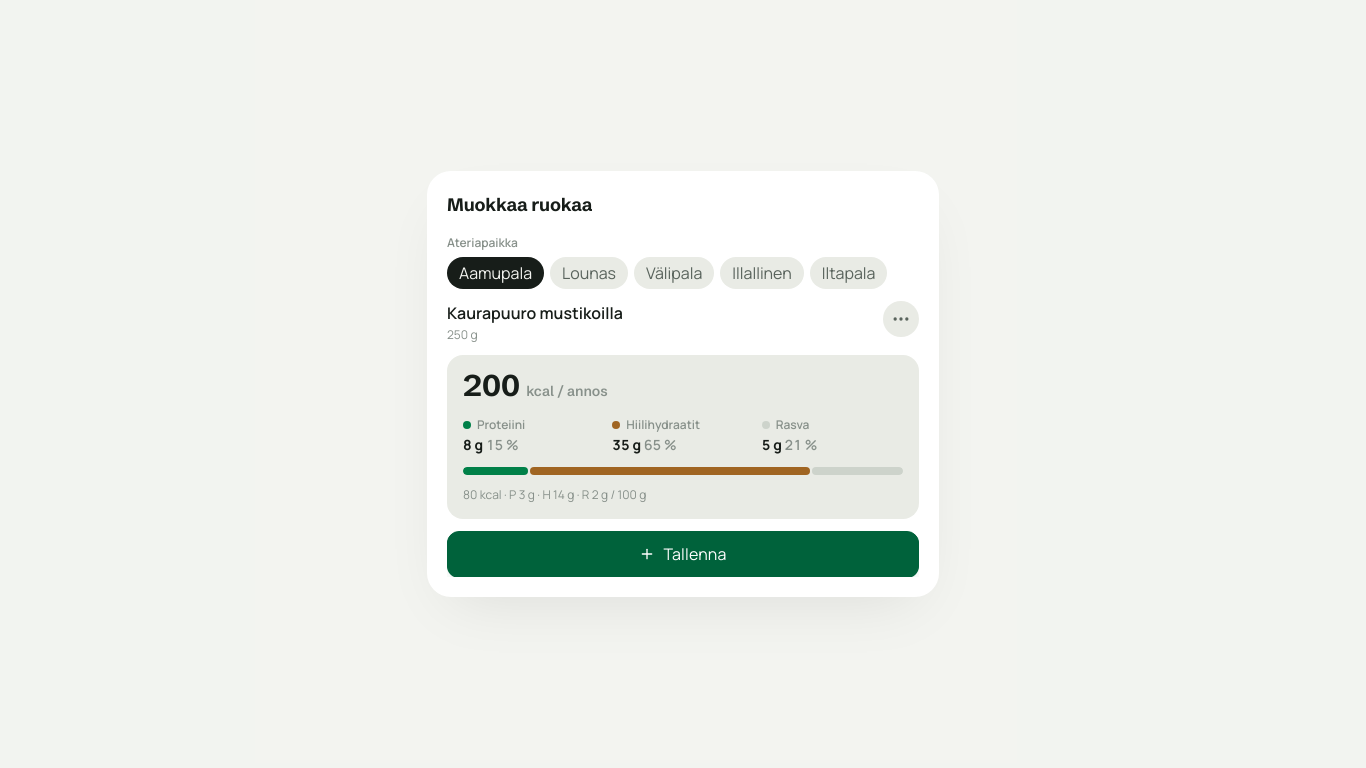
Scenario: FoodEntryEditSheet › käsin muokkaus avautuu valikosta
This screenshot has width=1366, height=768.
Click the button named "Avaa muokkausvalinnat": (901, 319) [883,301,919,337]
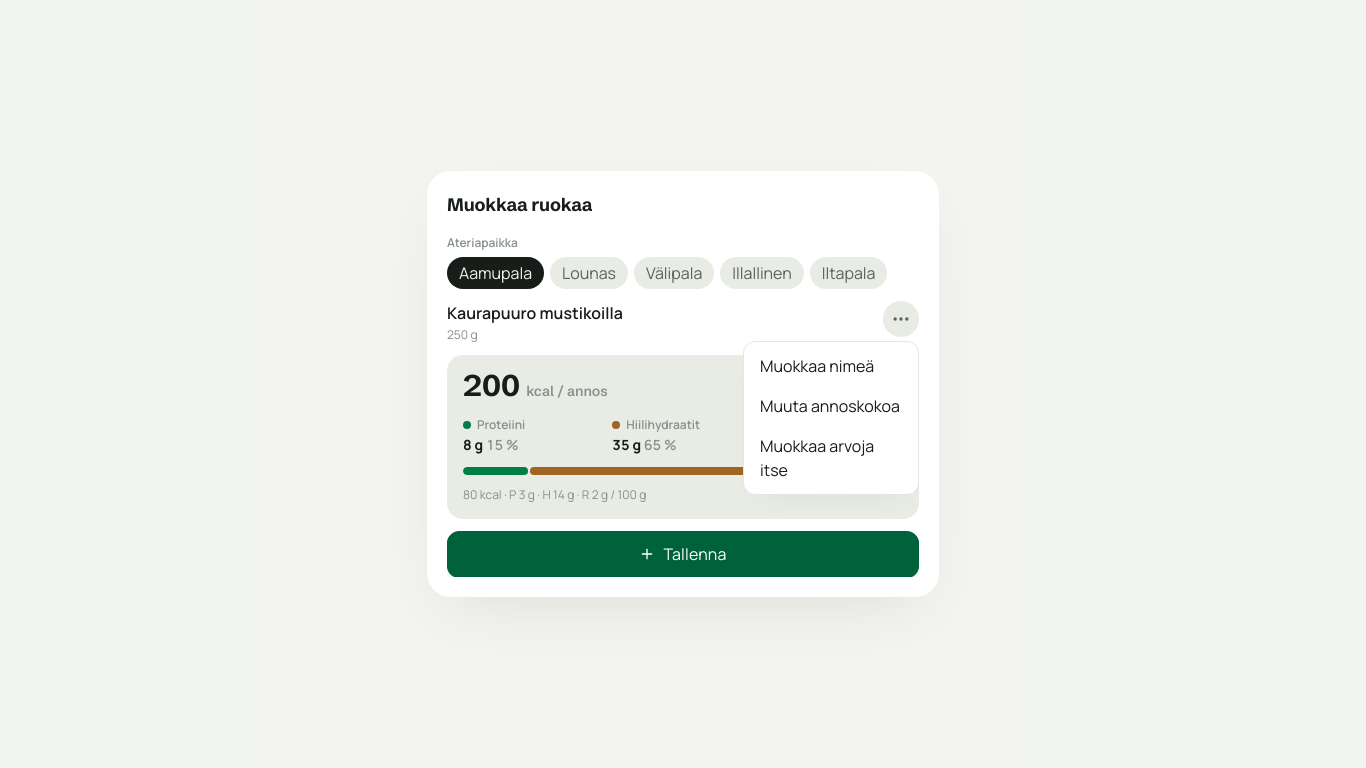
Click the menu item "Muokkaa arvoja itse": (831, 458) [748,426,914,490]
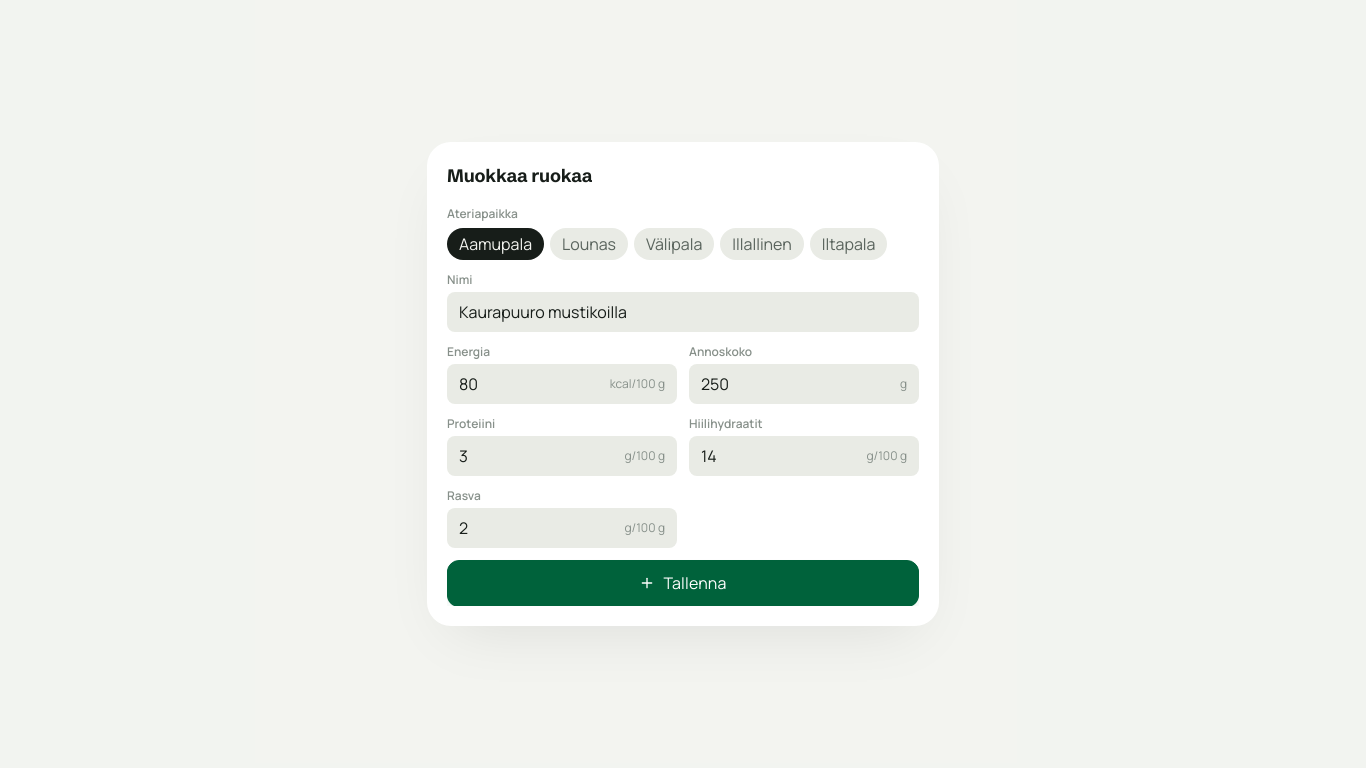
Expected: the text "Energia" is shown, [447,343,490,360]
Expected: the field showing "Kaurapuuro mustikoilla" is shown, [447,292,919,332]
